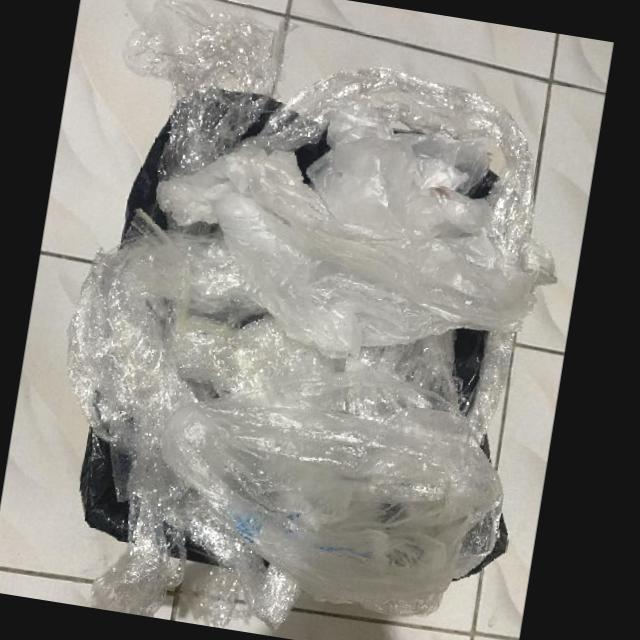tui_ni_long: (155, 110, 530, 355), (160, 367, 508, 618), (67, 209, 259, 618), (260, 68, 557, 286), (122, 1, 280, 183), (174, 317, 464, 410), (159, 479, 299, 631)
